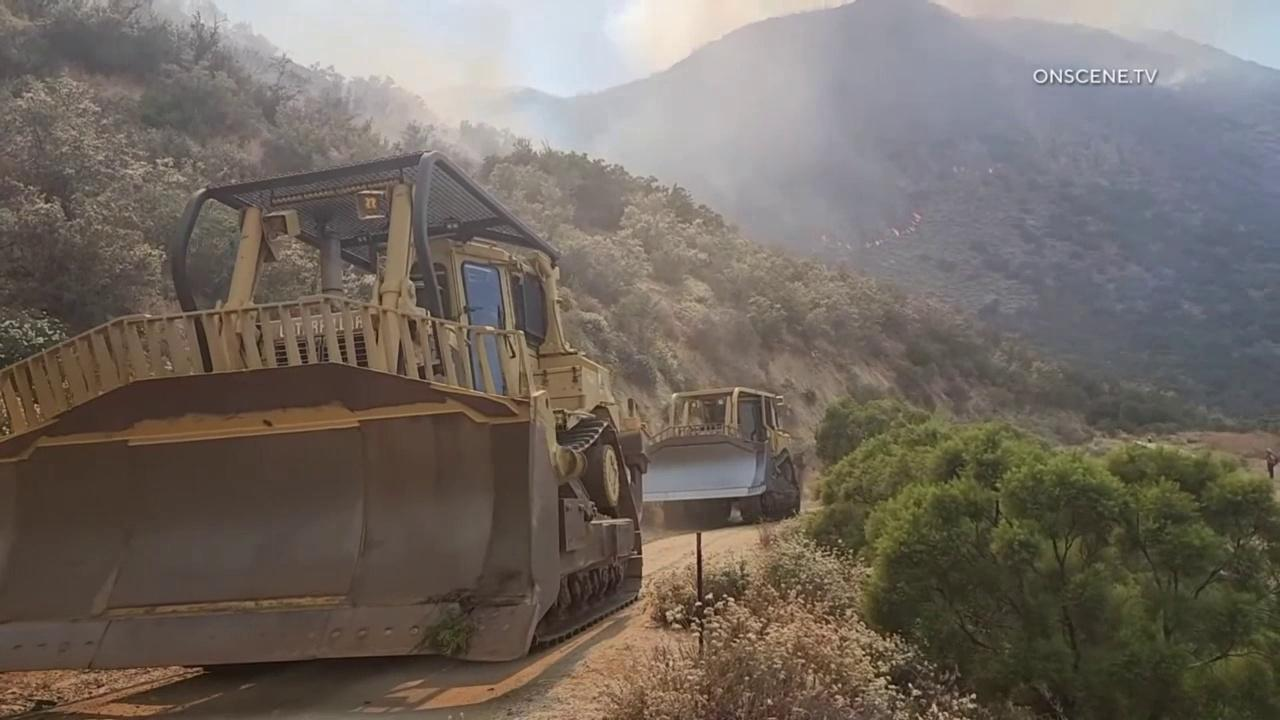fire: (903, 211, 922, 235), (952, 165, 966, 176), (889, 226, 900, 239), (862, 242, 872, 250), (874, 240, 883, 247), (820, 234, 828, 241), (845, 244, 852, 250), (988, 168, 993, 175)
smoke: (127, 0, 1280, 266)
